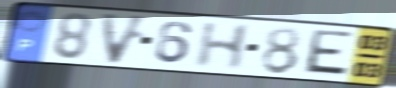6: (154, 20, 194, 66)
8: (258, 25, 306, 76), (52, 11, 95, 62)
E: (300, 28, 356, 80)
H: (192, 21, 254, 72)
V: (99, 11, 152, 66)
